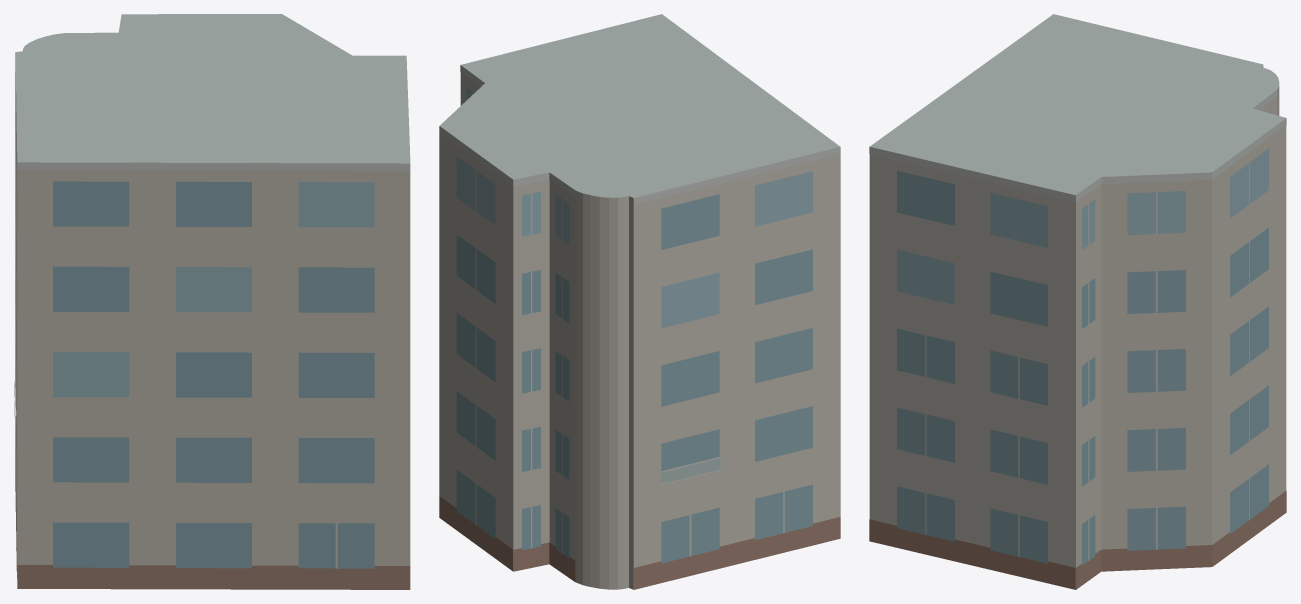
Rendered from survey-upis-32632185.glb.
3 renders of one model, left to right at view 1: azimuth 30°, elevation 25°; view 2: azimuth 150°, elevation 25°; view 3: azimuth 270°, elevation 25°, orthographic. The views are drawn at different scales.
Parts seen in each view (by area): view 1: survey-upis-32632185.tmp; view 2: survey-upis-32632185.tmp; view 3: survey-upis-32632185.tmp.
Boxes of the visible parts, x1,y1,x2,y2 form: survey-upis-32632185.tmp: [14, 14, 410, 589]; survey-upis-32632185.tmp: [439, 14, 840, 589]; survey-upis-32632185.tmp: [869, 14, 1286, 589].
Bounding box in the file's own units: 13.11 × 13.3 × 12.74.
